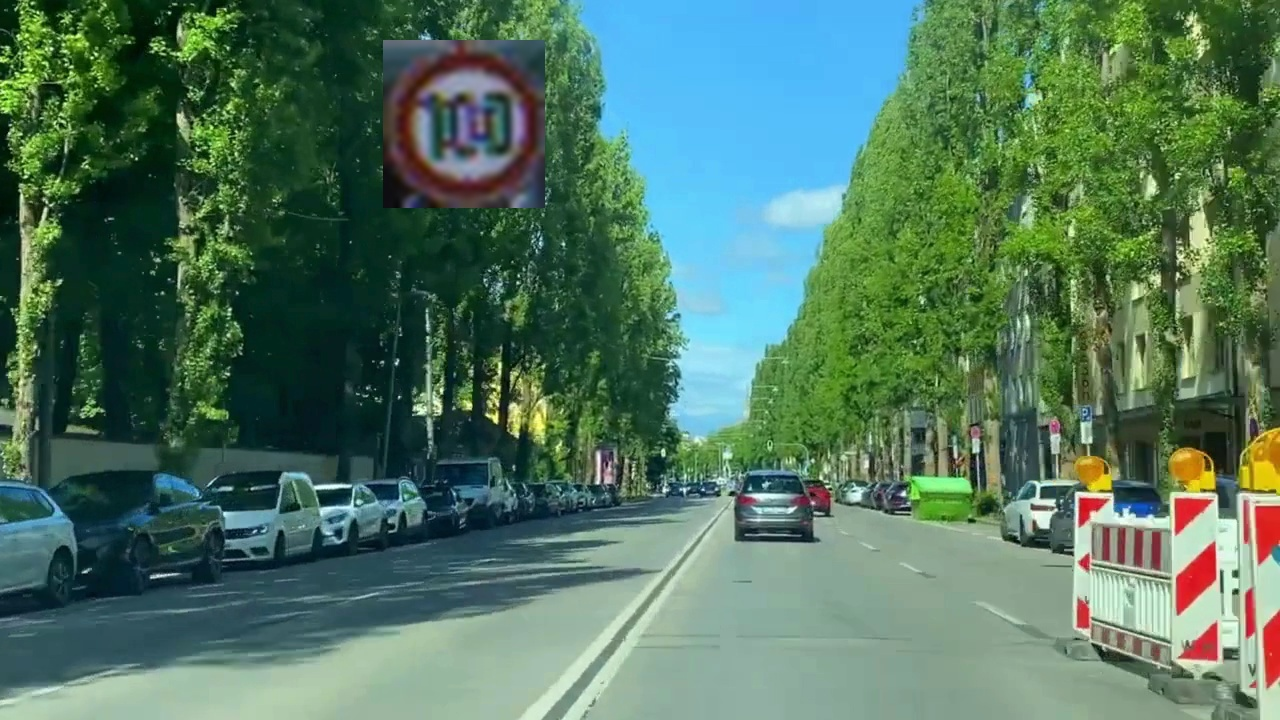Speed 100: (383, 40, 545, 208)
